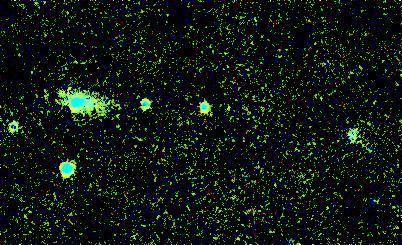star: (45, 76, 75, 106)
